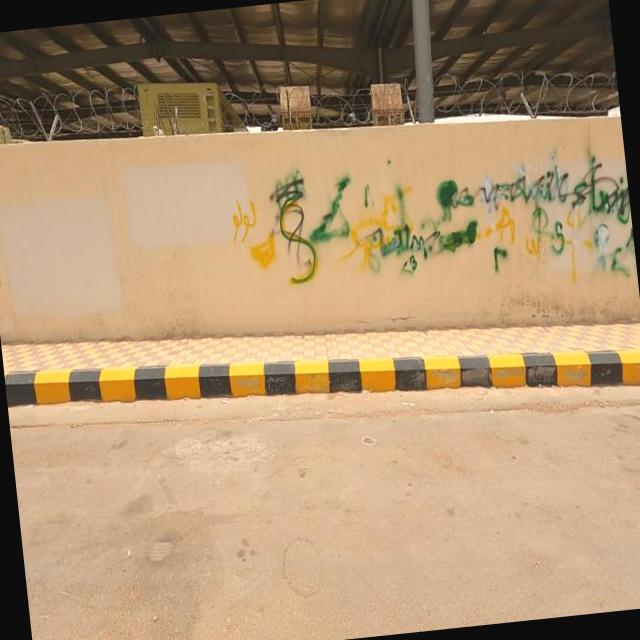debris: (99, 66, 557, 392), (339, 60, 640, 371)
